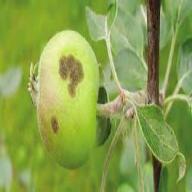apple: (33, 30, 102, 164)
